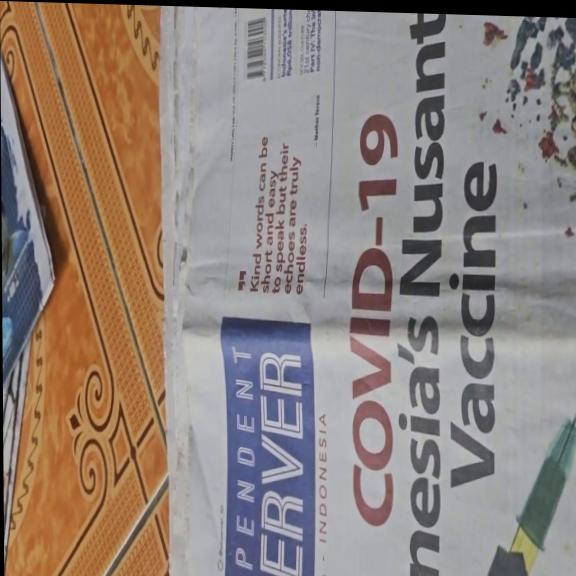Kertas: (163, 12, 575, 576)
